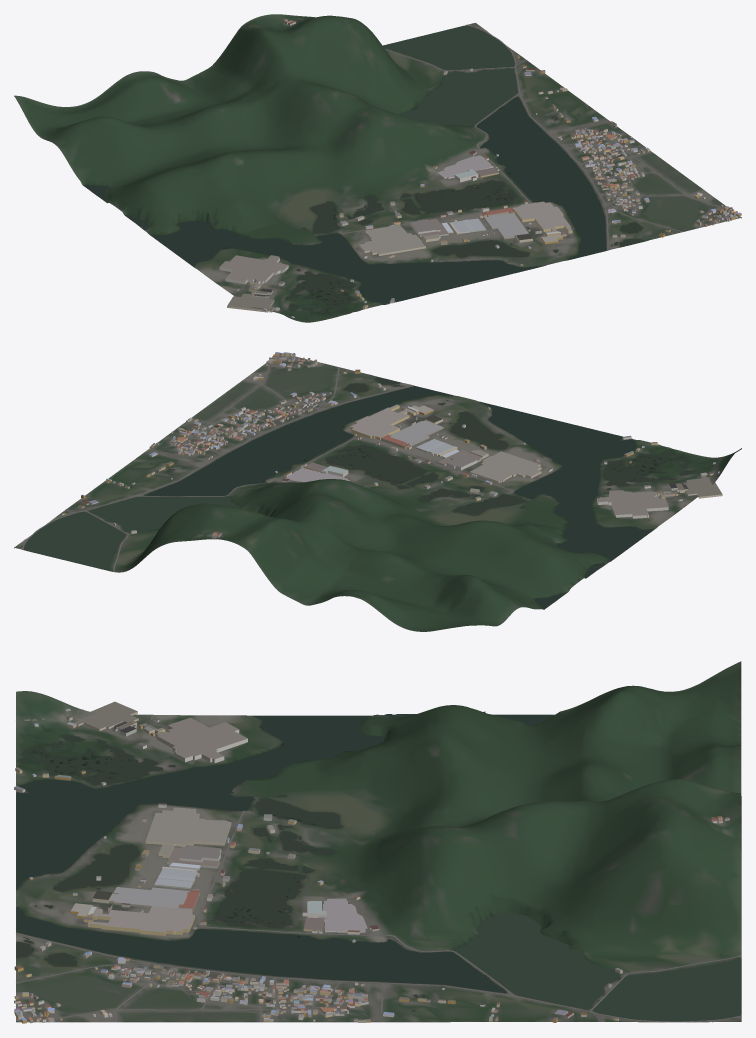
The picture shows the model from 3 angles, top to bottom: view 1: azimuth 30°, elevation 25°; view 2: azimuth 150°, elevation 25°; view 3: azimuth 270°, elevation 25°; orthographic projection. The views are drawn at different scales.
Visible parts, largest first — view 1: ground, water, buildings, roads; view 2: ground, water, buildings, roads; view 3: ground, water, buildings, roads.
Part boxes in pixels (x1=…): ground: x1=14, y1=14, x2=741, y2=322; water: x1=83, y1=25, x2=645, y2=319; buildings: x1=219, y1=18, x2=741, y2=317; roads: x1=230, y1=24, x2=739, y2=319; ground: x1=14, y1=352, x2=741, y2=631; water: x1=24, y1=376, x2=707, y2=608; buildings: x1=61, y1=352, x2=722, y2=538; roads: x1=22, y1=353, x2=721, y2=571; ground: x1=16, y1=661, x2=741, y2=1022; water: x1=16, y1=711, x2=740, y2=1021; buildings: x1=14, y1=701, x2=729, y2=1023; roads: x1=15, y1=709, x2=741, y2=1022.
Bounding box in the file's own units: 1461 × 196 × 1407.
